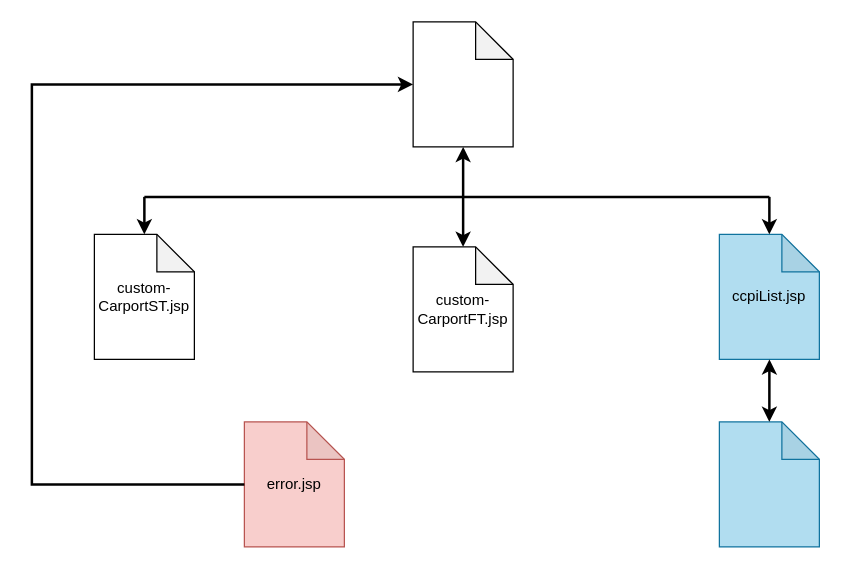
This 841x569 diagram has some shape labels left out. Here are the shapes that lost their labels. From the top down, the centre of each, then its label:
[462,84]: index.jsp
[768,484]: ccpiMaterial- Calculator.jsp
